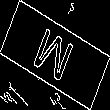M_SW: (31, 22, 79, 88)
